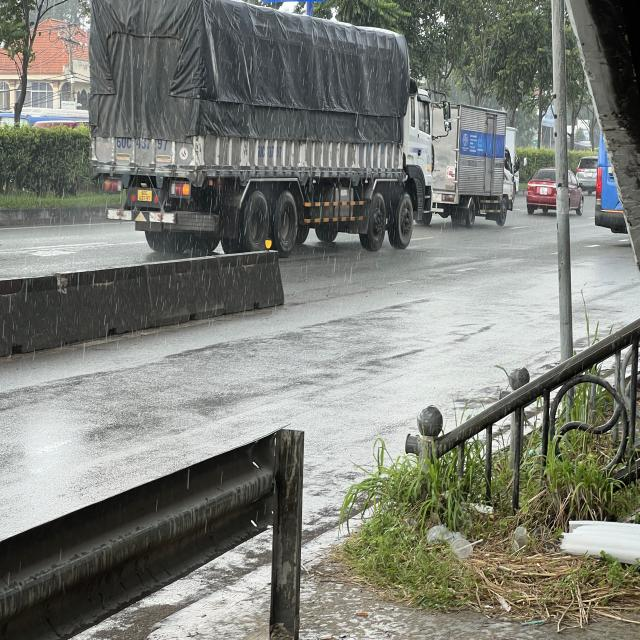car: (525, 168, 586, 216)
truck: (99, 4, 446, 245), (417, 109, 520, 224)
